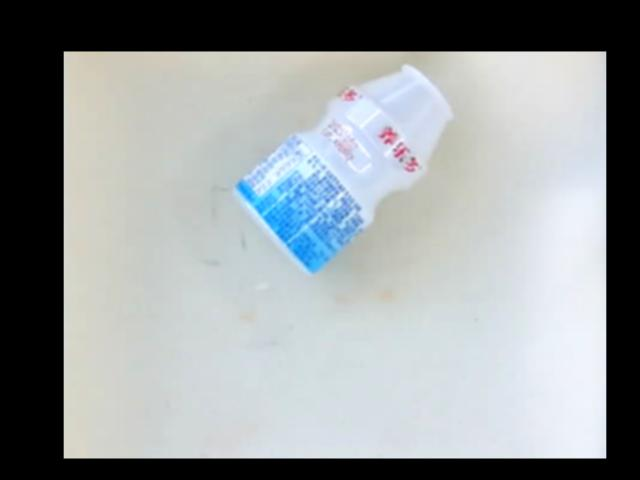Bottle: (231, 65, 453, 274)
